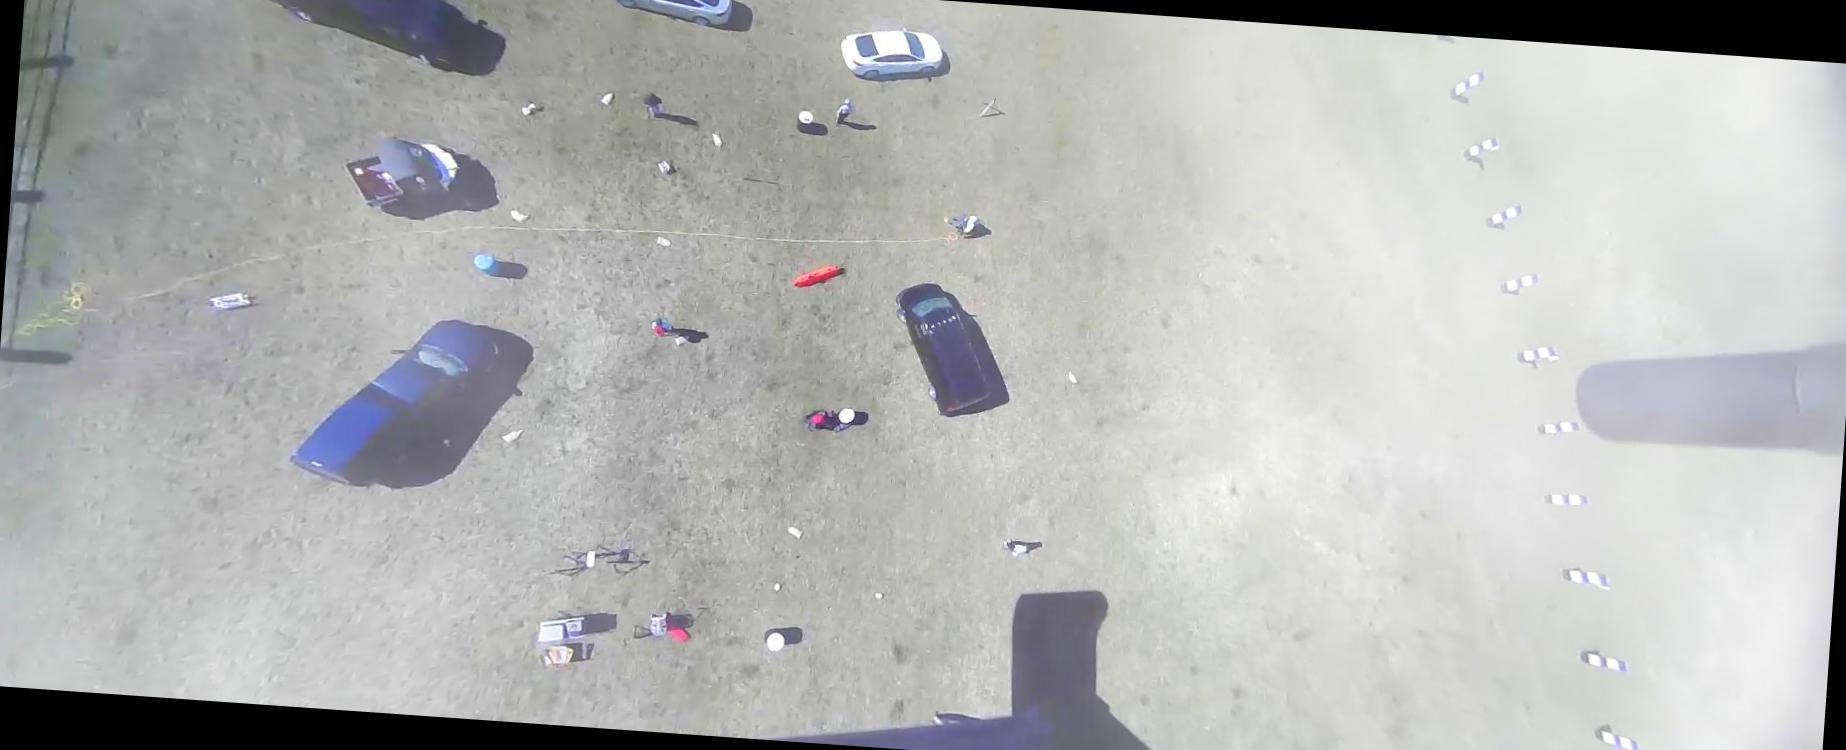vehicle: (288, 311, 503, 498), (241, 0, 469, 68), (887, 283, 997, 416), (339, 132, 460, 215), (837, 21, 944, 84), (598, 0, 733, 28)
